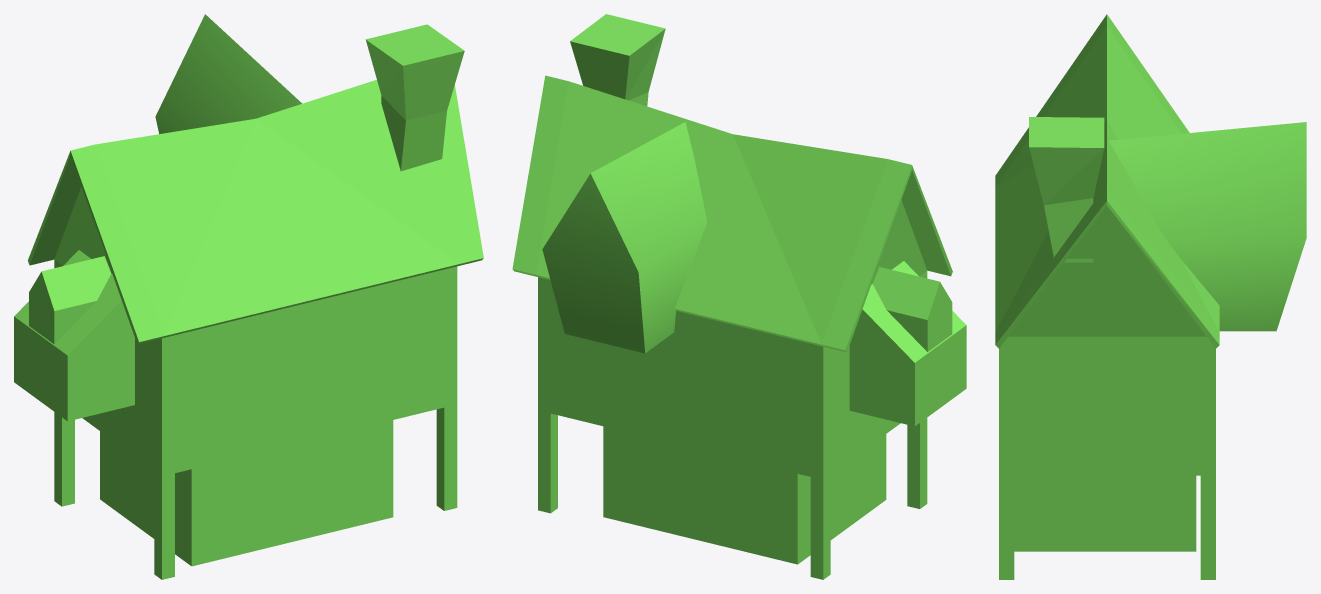
File: Building3_Collsion.FBX
3 renders of one model, left to right at view 1: azimuth 30°, elevation 25°; view 2: azimuth 150°, elevation 25°; view 3: azimuth 270°, elevation 25°, orthographic. The views are drawn at different scales.
Parts seen in each view (by area): view 1: Building3_Collision; view 2: Building3_Collision; view 3: Building3_Collision.
Part boxes in pixels (x1,y1,x2,y2): Building3_Collision: [14, 14, 483, 579]; Building3_Collision: [512, 14, 966, 579]; Building3_Collision: [995, 14, 1306, 579].
Size of the model in its own units: 20.38 by 20.96 by 13.33.
